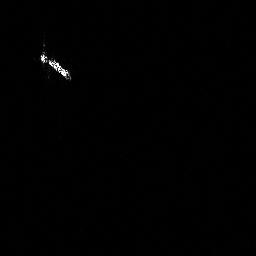ship: (36, 47, 73, 83)
